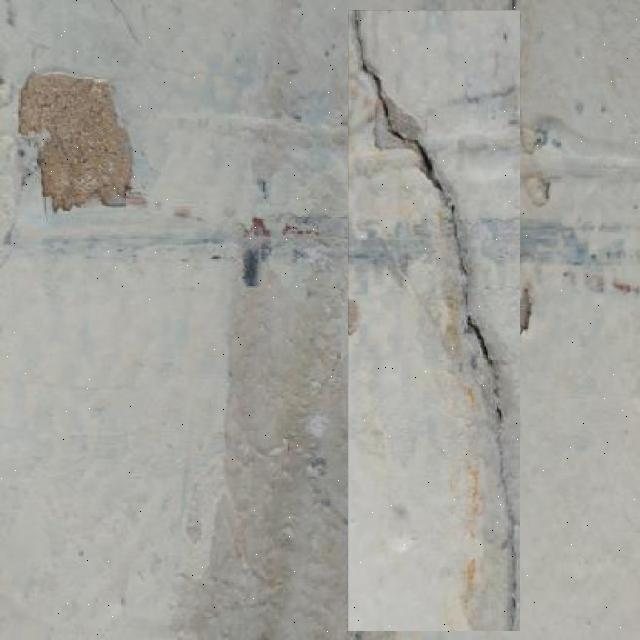crack: (349, 10, 520, 630)
dampness: (17, 70, 134, 213)
